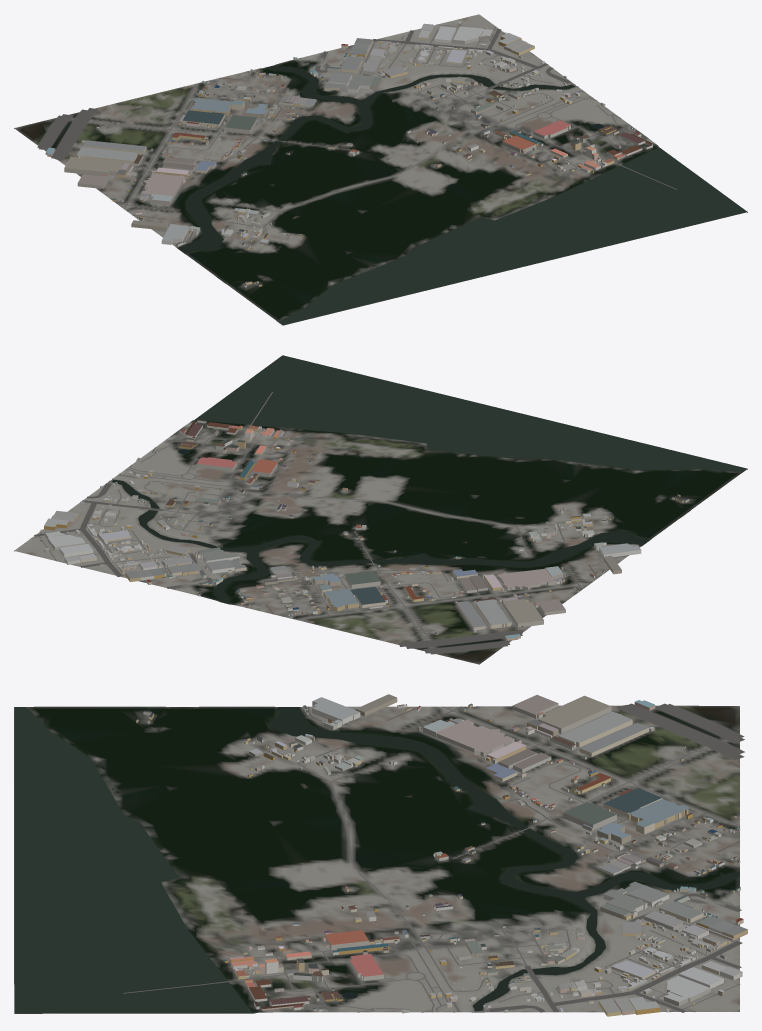
3 renders of one model, top to bottom at view 1: azimuth 30°, elevation 25°; view 2: azimuth 150°, elevation 25°; view 3: azimuth 270°, elevation 25°, orthographic. The views are drawn at different scales.
Parts seen in each view (by area): view 1: ground, water, buildings, roads; view 2: ground, water, buildings, roads; view 3: ground, water, buildings, roads.
Boxes of the visible parts, x1,y1,x2,y2 form: ground: (14,14,747,325); water: (178,65,746,324); buildings: (45,21,652,287); roads: (37,24,676,245); ground: (14,393,747,664); water: (112,355,746,603); buildings: (40,419,689,640); roads: (30,392,628,654); ground: (14,705,739,1013); water: (14,707,739,1013); buildings: (136,694,747,1016); roads: (123,703,744,1012).
Size of the model in its own units: 1458 by 28.89 by 1416.
